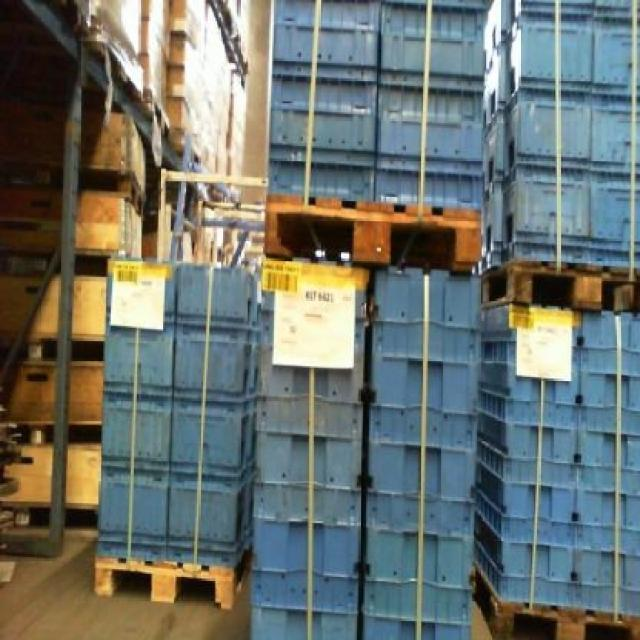pallets: (472, 262, 637, 637), (94, 258, 254, 606)
